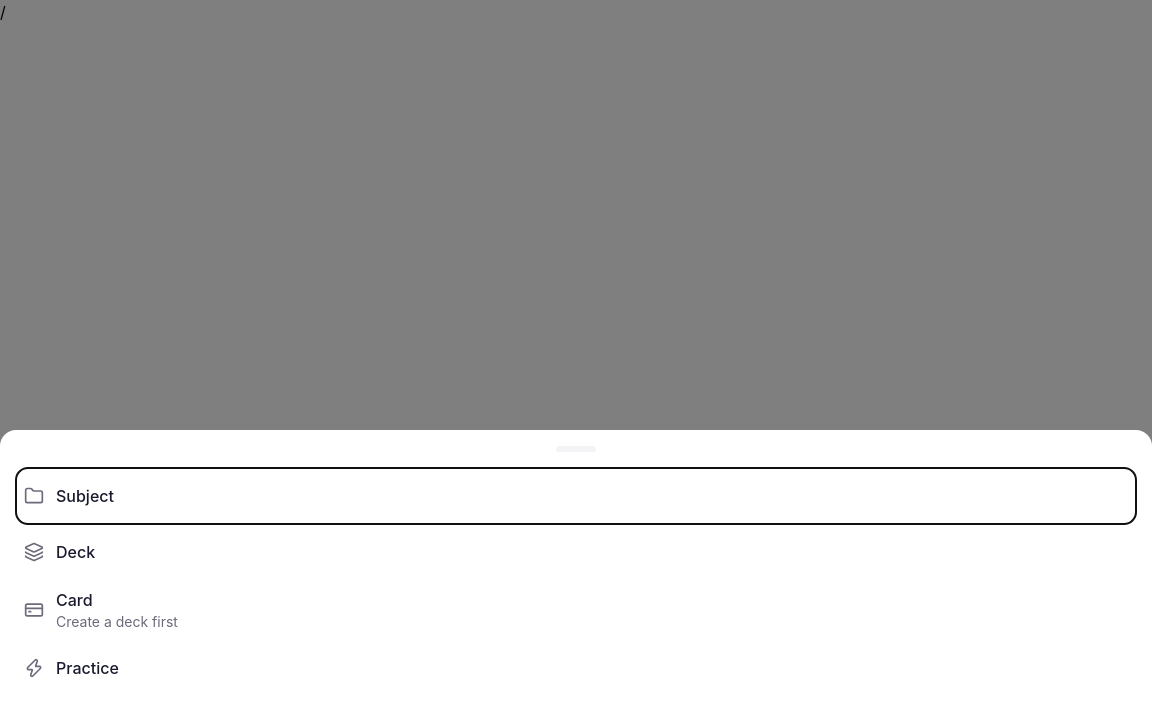
it: CreateSheet › shows "Create a deck first" and routes Card to /decks/new when there are no decks
Expected: the text "Create a deck first" is shown, left=56, top=612, right=178, bottom=632
Step 1. Click the button "Card Create a deck first" → (74, 600), box left=16, top=580, right=1136, bottom=640
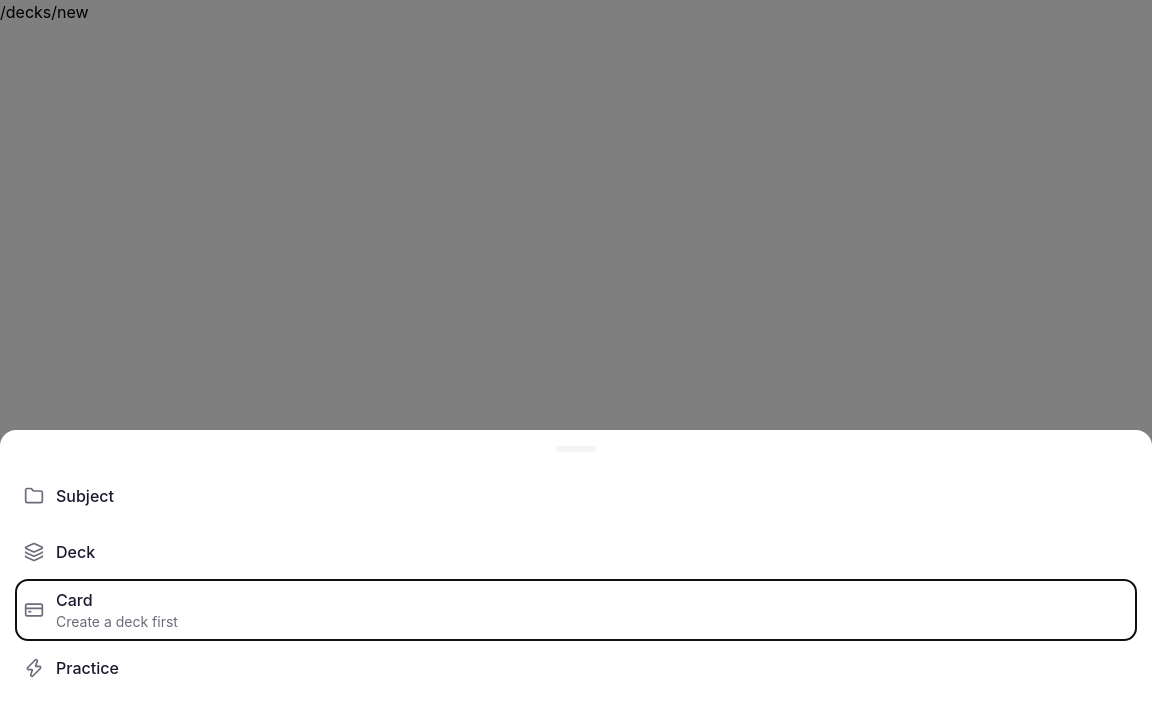
Now the text with test id "location" reads "/decks/new", box left=0, top=2, right=89, bottom=22
